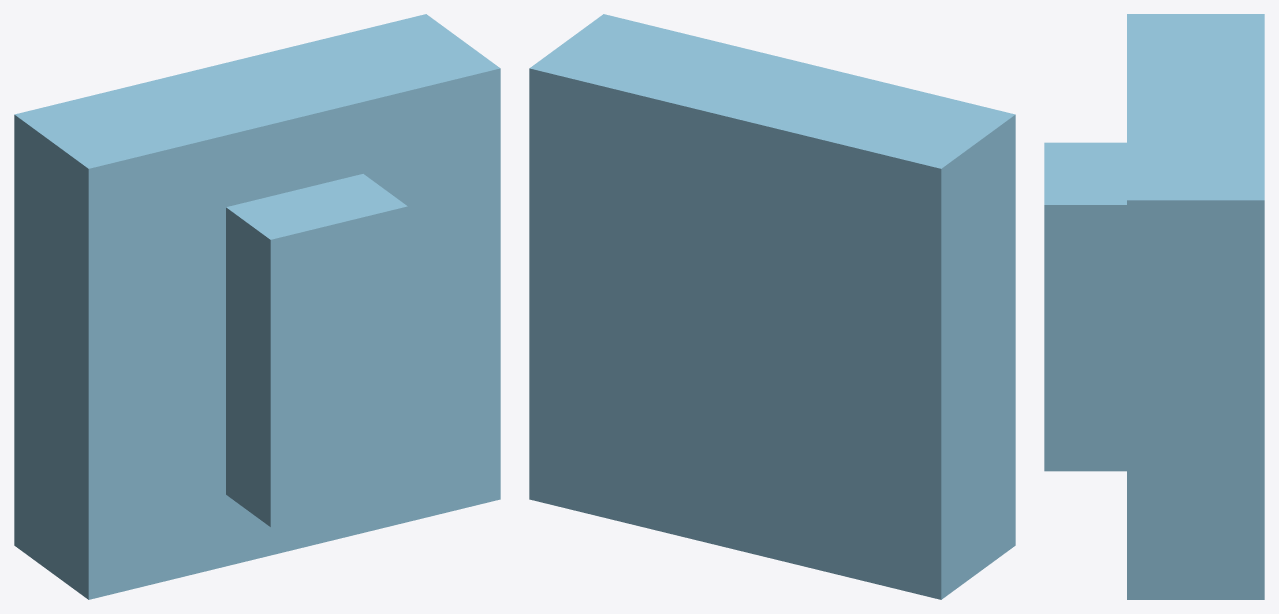
File: switch_wall_lod0.glb
3 renders of one model, left to right at view 1: azimuth 30°, elevation 25°; view 2: azimuth 150°, elevation 25°; view 3: azimuth 270°, elevation 25°, orthographic. The views are drawn at different scales.
Visible parts, largest first — view 1: SwitchWallLod0; view 2: SwitchWallLod0; view 3: SwitchWallLod0.
Part boxes in pixels (x1,y1,x2,y2): SwitchWallLod0: (14, 14, 500, 599); SwitchWallLod0: (529, 14, 1015, 599); SwitchWallLod0: (1044, 14, 1264, 599).
Size of the model in its own units: 0.48 by 0.48 by 0.24.
